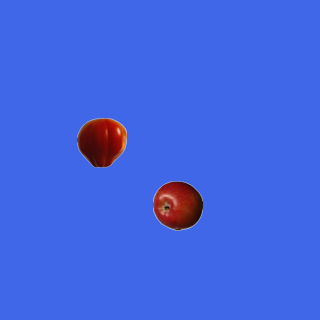Apple Braeburn: (152, 180, 202, 230)
Tomato 1: (76, 117, 126, 167)
